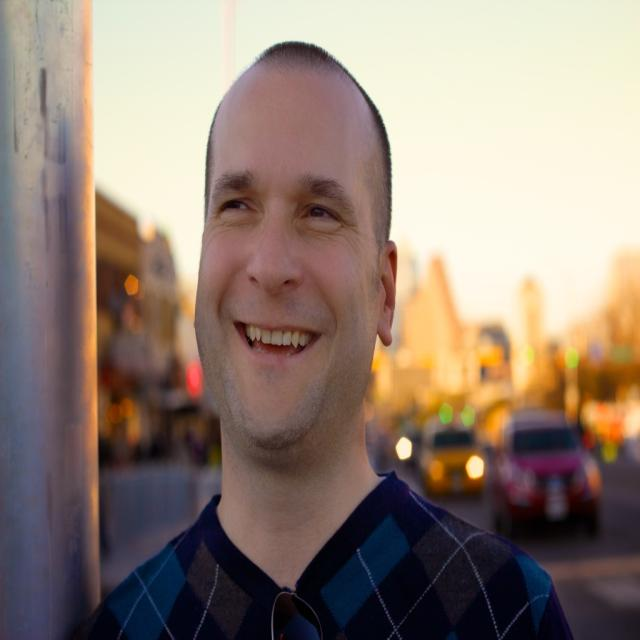car: (488, 413, 608, 544)
